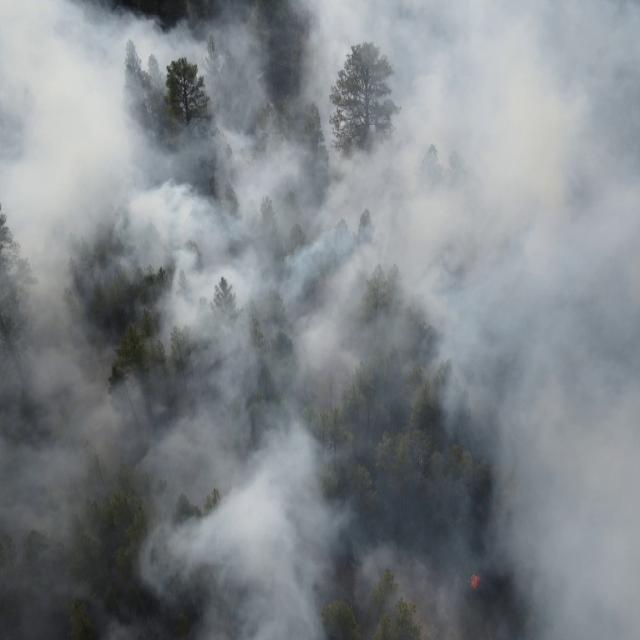fire: (468, 573, 486, 592)
smoke: (0, 0, 640, 640)
